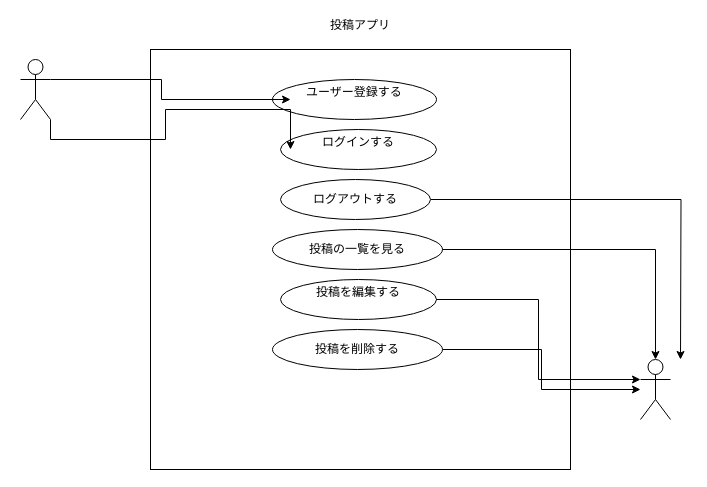
The diagram is 707 pixels wide and 487 high, and some of its shapes have lost their labels. Here are the shapes that lost their labels. From the top down, the centre of each, then its label:
At point (35, 89): "訪問者".
At point (655, 389): "Actor".
